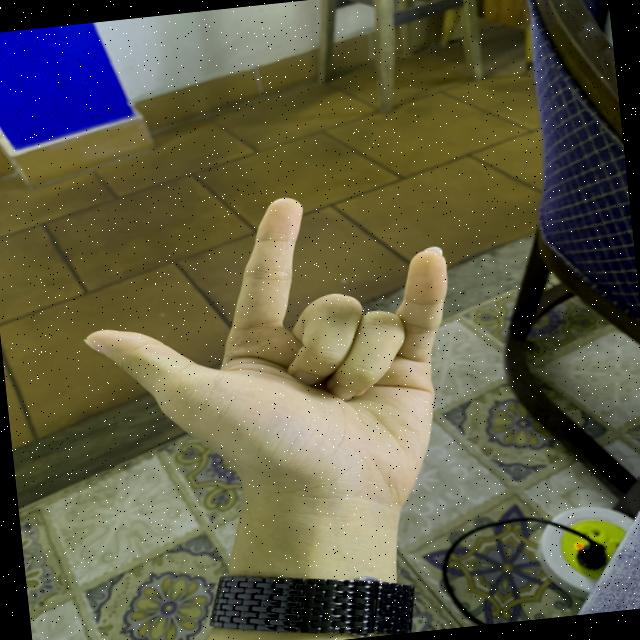love: (44, 106, 510, 563)
